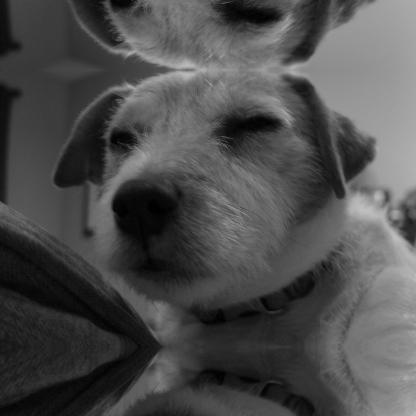Dog: (51, 69, 415, 346), (51, 0, 416, 70), (51, 346, 416, 415)
